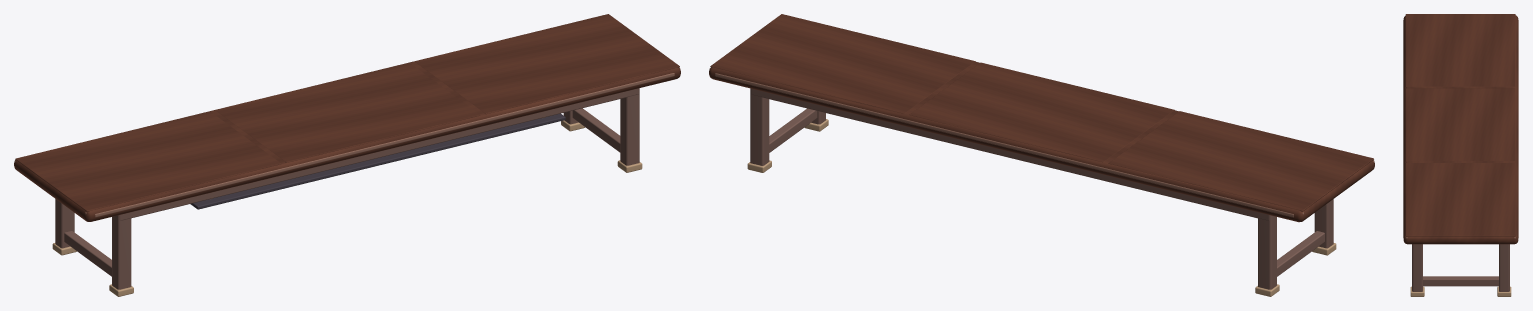
The picture shows the model from 3 angles, left to right: view 1: azimuth 30°, elevation 25°; view 2: azimuth 150°, elevation 25°; view 3: azimuth 270°, elevation 25°; orthographic projection. The views are drawn at different scales.
Parts seen in each view (by area): view 1: C01_Batched_C01_WarmSmokedOak, C01_Batched_C01_UnderframeWalnut, C01_RearCableChannel, C01_Batched_C01_EndGrainOak, C01_Batched_C01_SatinChampagneBrass; view 2: C01_Batched_C01_WarmSmokedOak, C01_Batched_C01_UnderframeWalnut, C01_Batched_C01_EndGrainOak, C01_Batched_C01_SatinChampagneBrass; view 3: C01_Batched_C01_WarmSmokedOak, C01_Batched_C01_UnderframeWalnut, C01_Batched_C01_EndGrainOak, C01_Batched_C01_SatinChampagneBrass.
Boxes of the visible parts, x1,y1,x2,y2 form: C01_Batched_C01_WarmSmokedOak: [14, 14, 680, 221]; C01_Batched_C01_UnderframeWalnut: [55, 88, 639, 289]; C01_RearCableChannel: [190, 113, 565, 209]; C01_Batched_C01_EndGrainOak: [14, 73, 674, 217]; C01_Batched_C01_SatinChampagneBrass: [52, 120, 642, 296]; C01_Batched_C01_WarmSmokedOak: [709, 14, 1374, 222]; C01_Batched_C01_UnderframeWalnut: [750, 88, 1333, 289]; C01_Batched_C01_EndGrainOak: [709, 68, 1374, 217]; C01_Batched_C01_SatinChampagneBrass: [747, 119, 1336, 296]; C01_Batched_C01_WarmSmokedOak: [1403, 14, 1518, 244]; C01_Batched_C01_UnderframeWalnut: [1412, 244, 1509, 291]; C01_Batched_C01_EndGrainOak: [1403, 20, 1518, 238]; C01_Batched_C01_SatinChampagneBrass: [1410, 286, 1511, 296].
Size of the model in its own units: 8.25 by 1.29 by 1.81.
5 materials, 1 textured.
